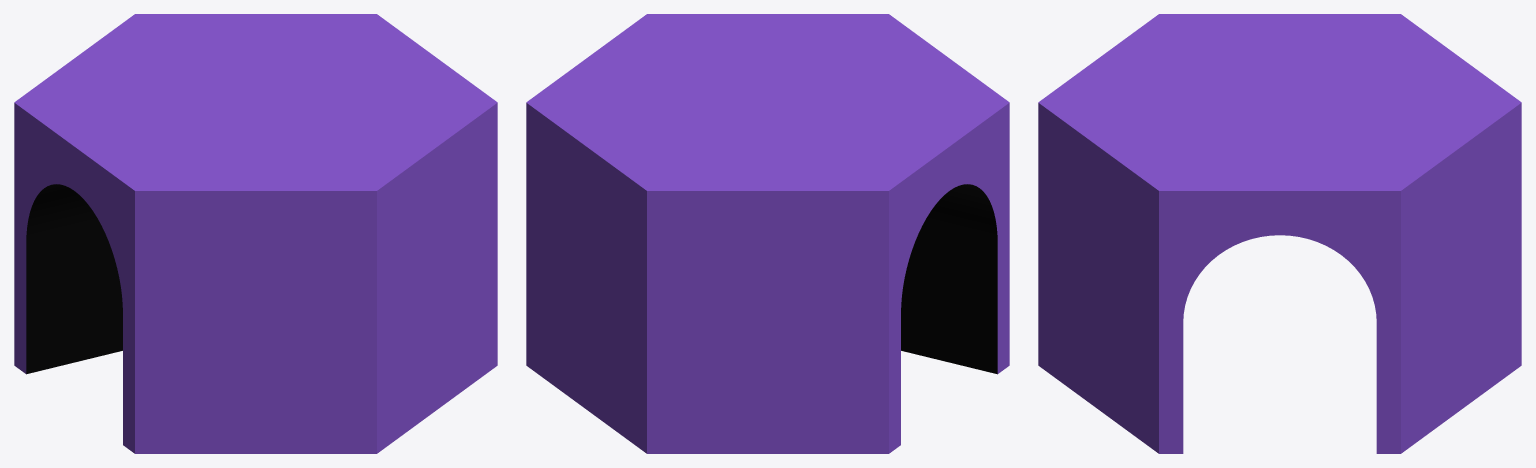
The model's file is WallDoorTileBase.fbx.
The picture shows the model from 3 angles, left to right: view 1: azimuth 30°, elevation 25°; view 2: azimuth 150°, elevation 25°; view 3: azimuth 270°, elevation 25°; orthographic projection.
Parts seen in each view (by area): view 1: WallDoorTileBase; view 2: WallDoorTileBase; view 3: WallDoorTileBase.
Part boxes in pixels (x1=…): WallDoorTileBase: x1=14, y1=14, x2=497, y2=453; WallDoorTileBase: x1=526, y1=14, x2=1009, y2=453; WallDoorTileBase: x1=1038, y1=14, x2=1521, y2=453.
Size of the model in its own units: 8.66 by 6 by 10.
